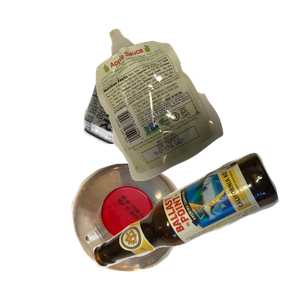glass: (91, 150, 300, 300)
metal: (81, 41, 234, 178)
plastic: (69, 161, 245, 300)
trash: (93, 26, 300, 200)
